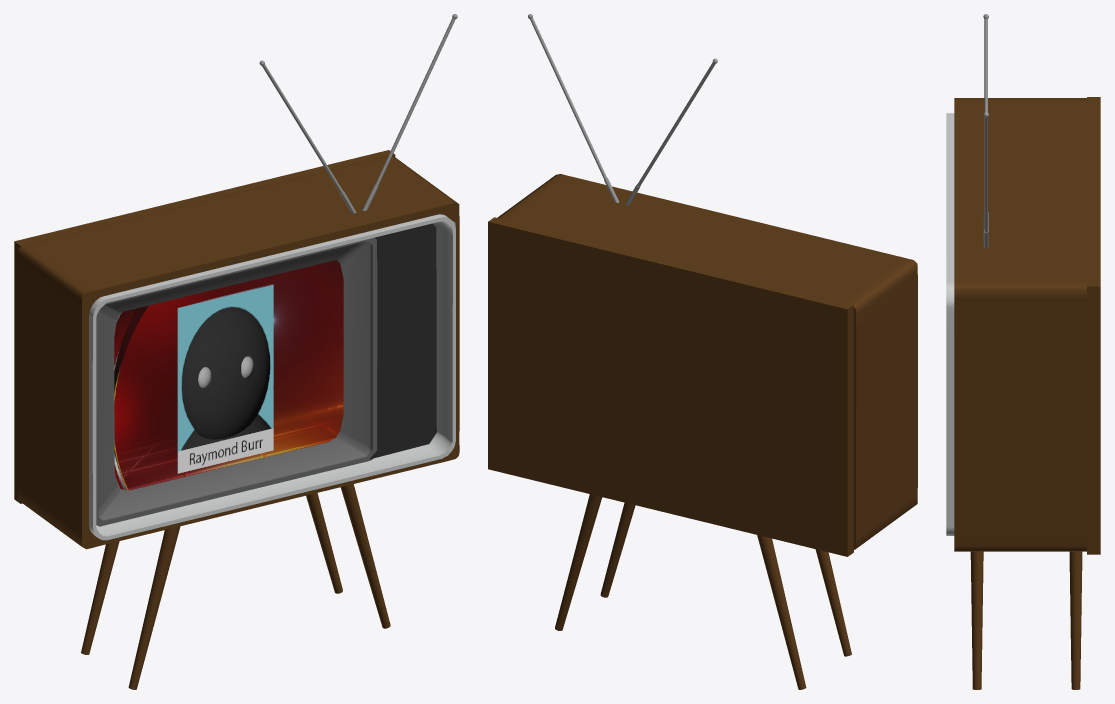
The model's file is TV_with_ad_redo.fbx.
3 renders of one model, left to right at view 1: azimuth 30°, elevation 25°; view 2: azimuth 150°, elevation 25°; view 3: azimuth 270°, elevation 25°, orthographic. The views are drawn at different scales.
Parts seen in each view (by area): view 1: TV; view 2: TV; view 3: TV.
Boxes of the visible parts, x1,y1,x2,y2 form: TV: [14, 14, 459, 689]; TV: [488, 14, 917, 689]; TV: [946, 14, 1100, 689].
Size of the model in its own units: 14.27 by 20.68 by 4.69.
Materials: 7 (1 with a texture image).
